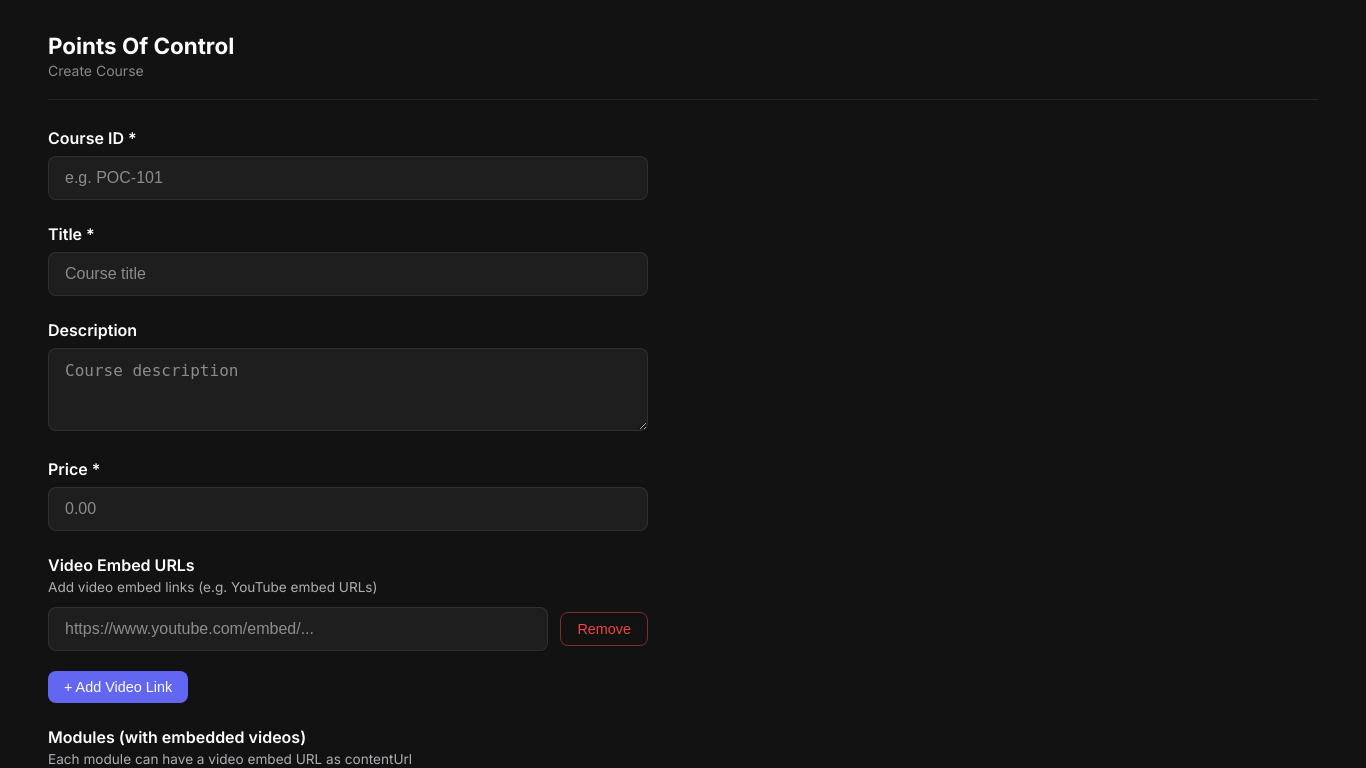
it: CreateCourse component › shows success message after successful course creation
Type "POC-201" into the field with placeholder "e.g. POC-101".
click(348, 178); type("POC-201")  # box [48,156,648,200]
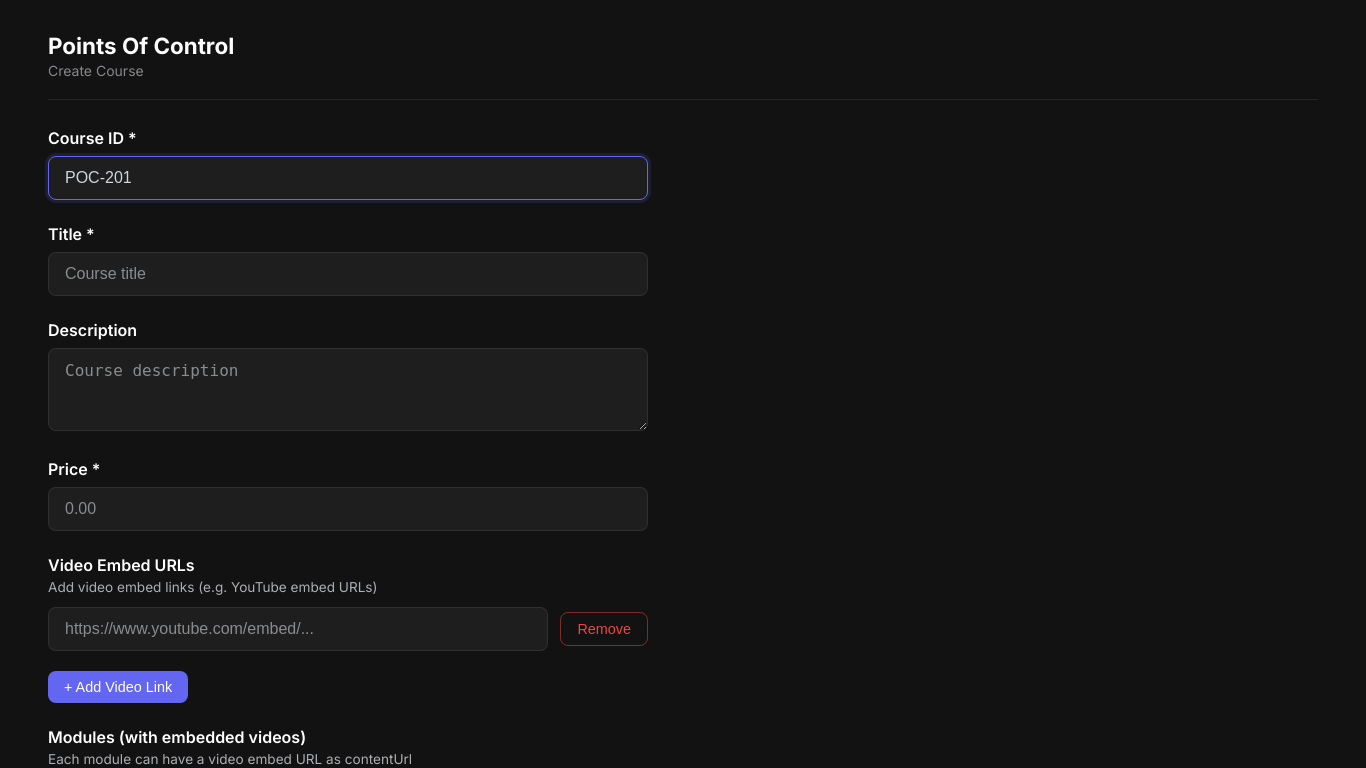
Type "My Course" into the field with placeholder "Course title".
click(348, 274); type("My Course")  # box [48,252,648,296]
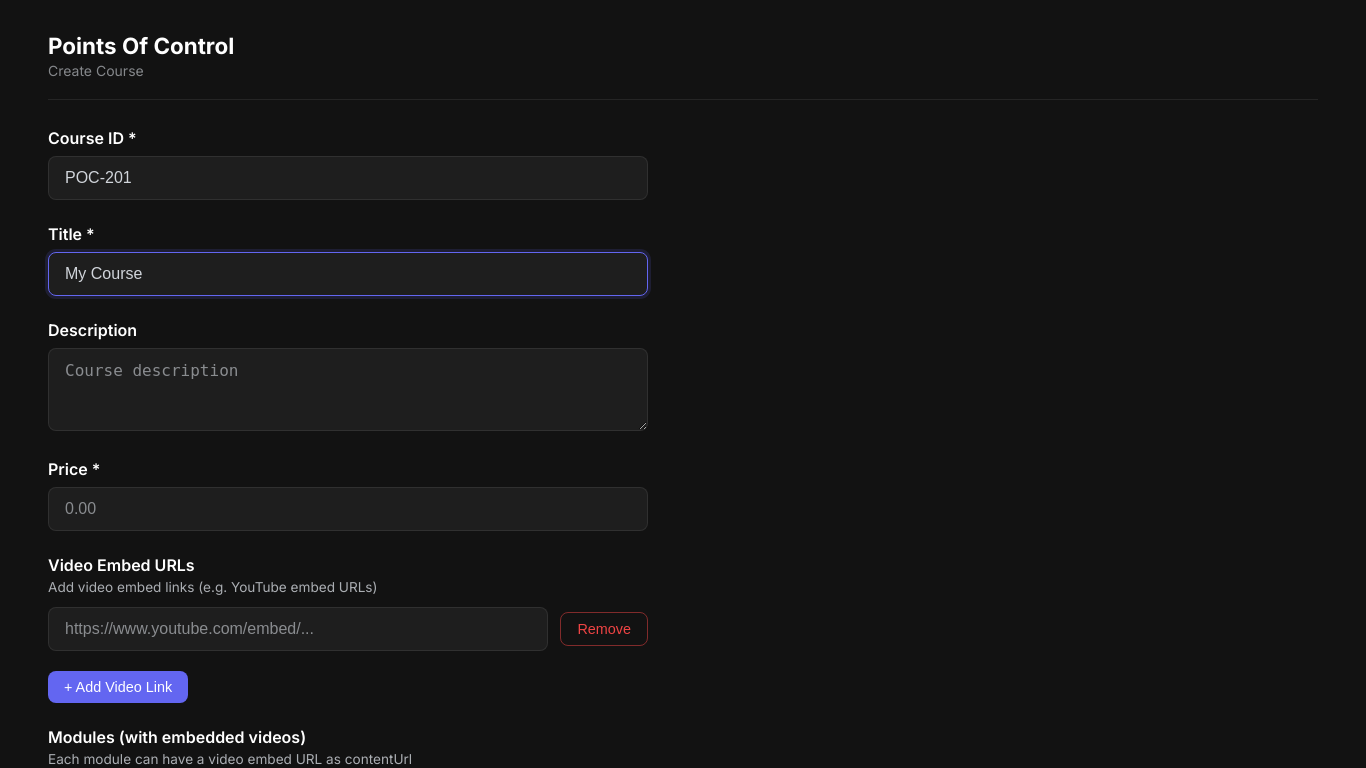
Type "99.99" into the number field with placeholder "0.00".
click(348, 509); type("99.99")  # box [48,487,648,531]
(page scrolled)
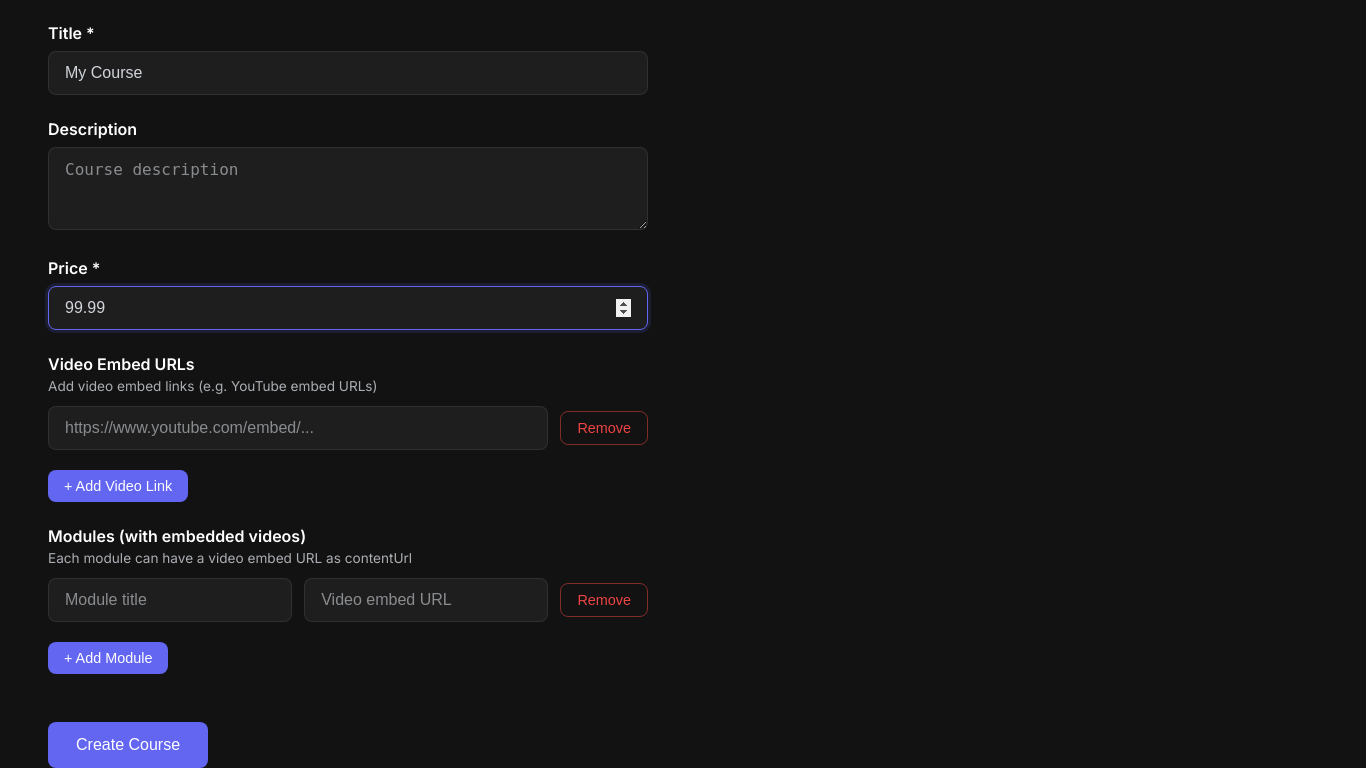
Click the button "Create Course".
click(128, 745)  # box [48,722,208,767]
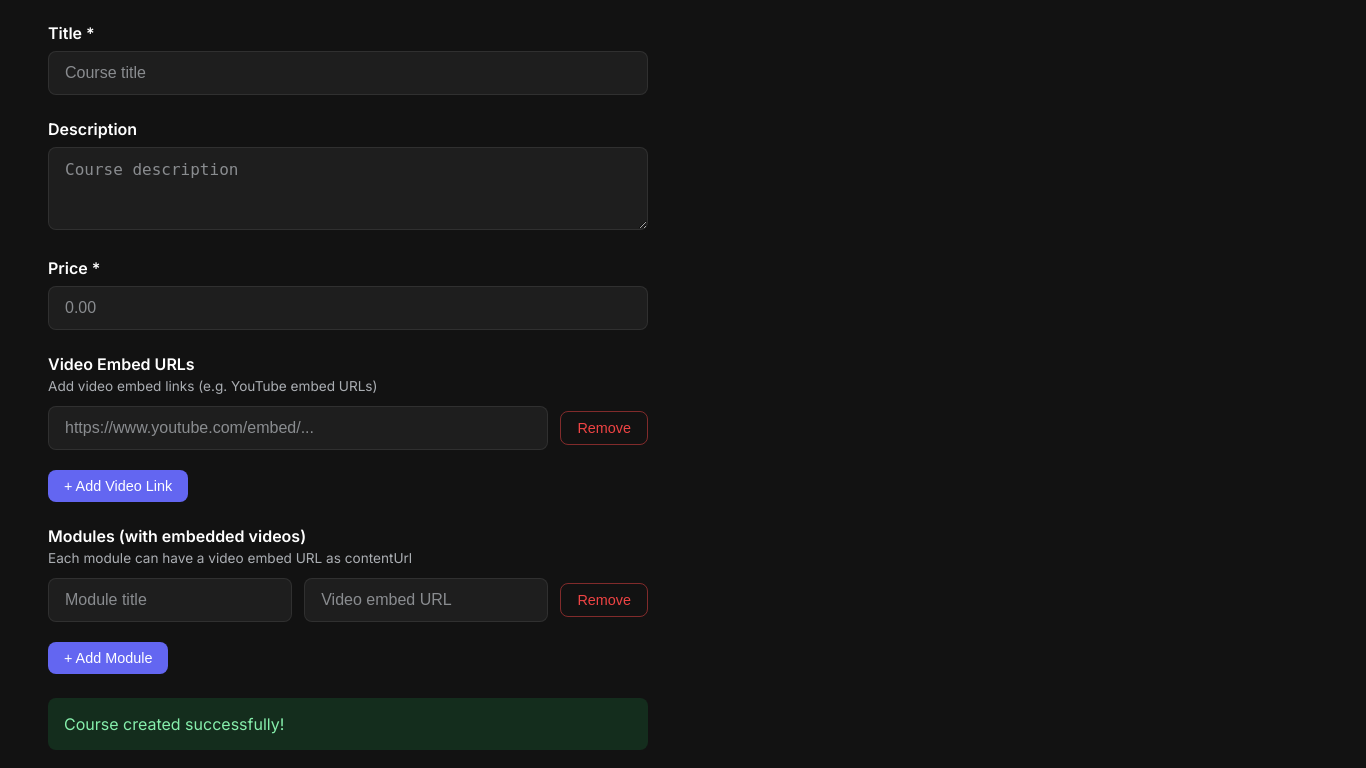
Check: the text "Course created successfully!" is shown, box [48,698,648,750]
